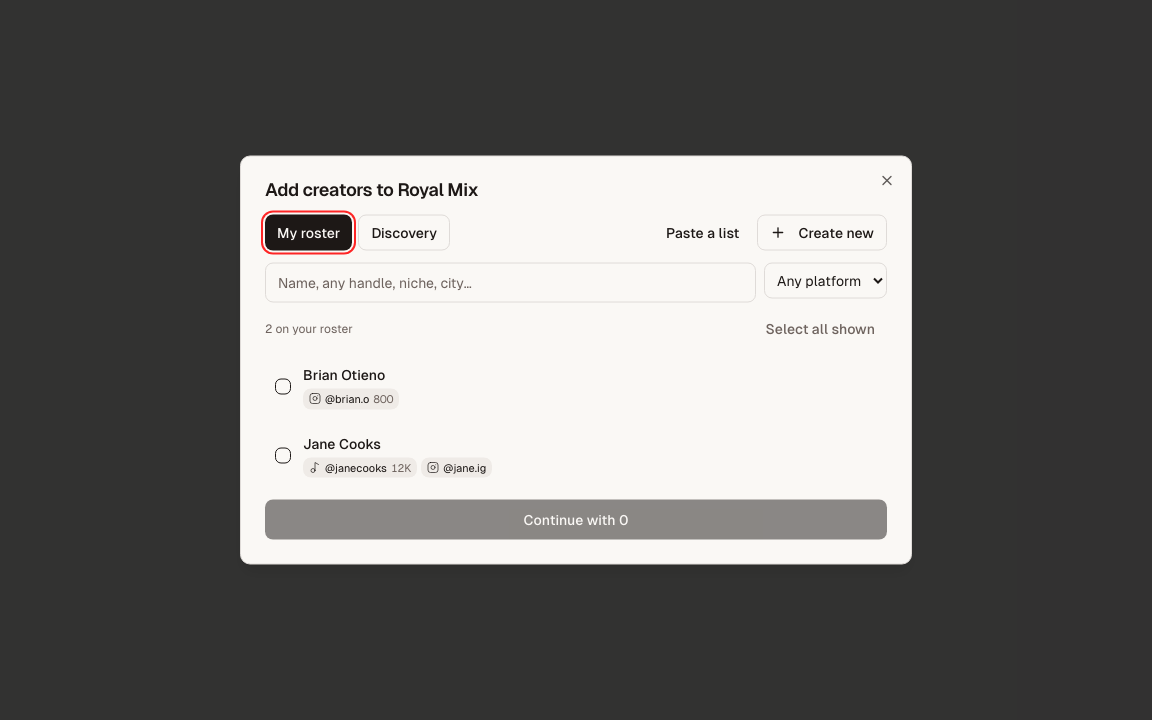
Test case: adding from Discovery › finds people from Discovery while on a campaign
Click the button "Discovery".
click(404, 232)  # box left=358, top=214, right=450, bottom=250
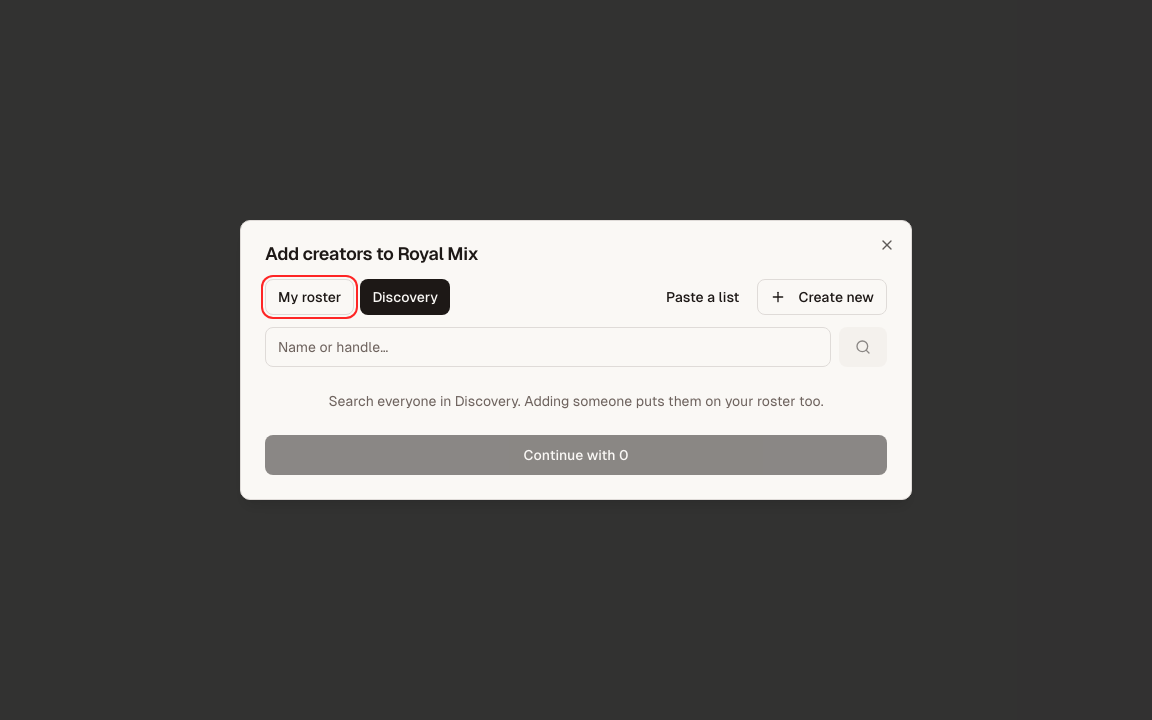
Type "new person" into the field named "search discovery".
click(548, 347); type("new person")  # box left=265, top=327, right=831, bottom=367
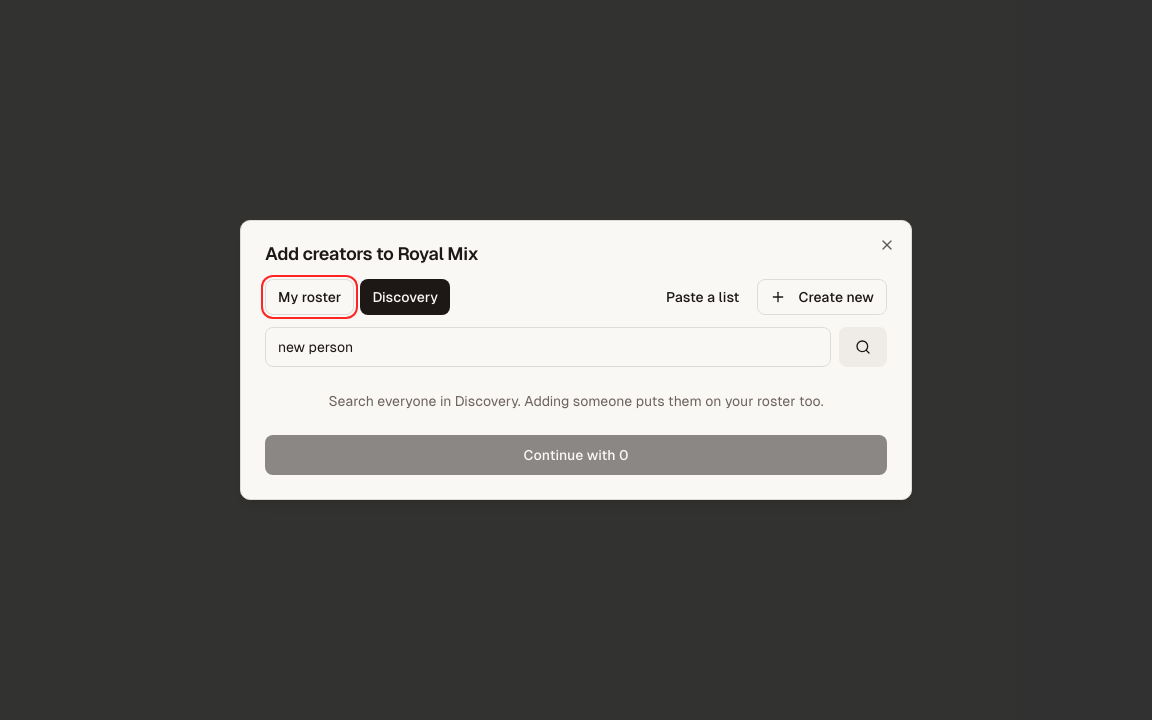
Submit the form named "search discovery", box left=265, top=327, right=887, bottom=367
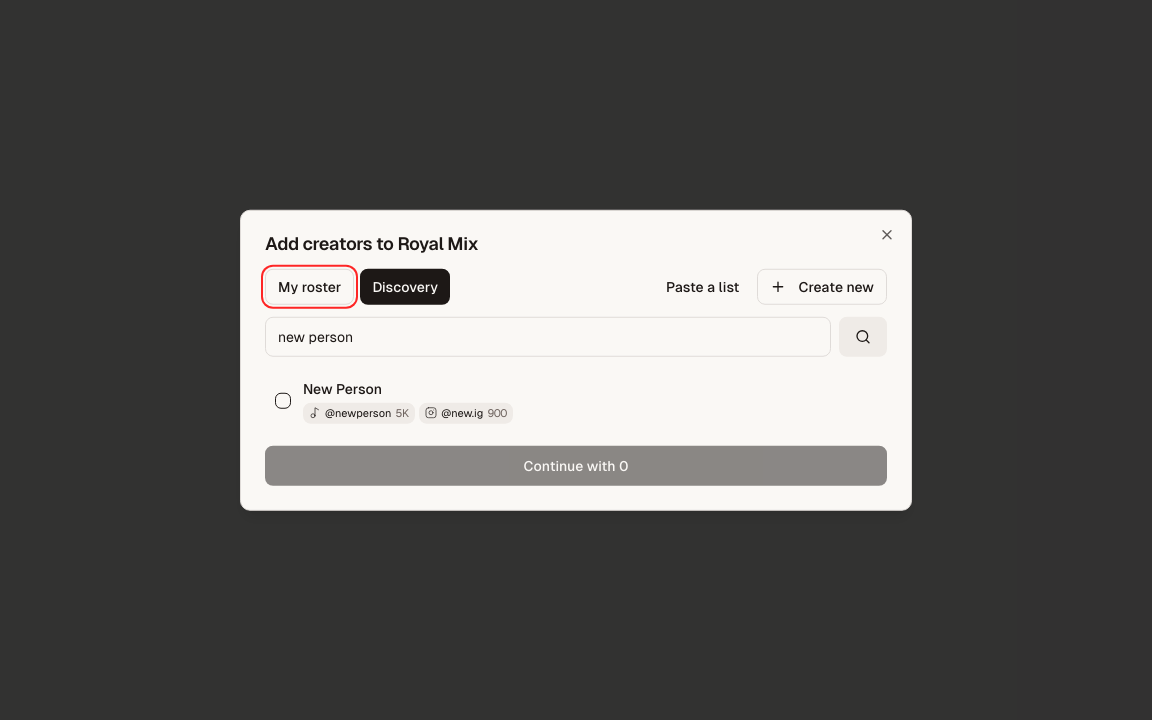
Click the checkbox named "new person".
click(283, 401)  # box left=275, top=393, right=291, bottom=409
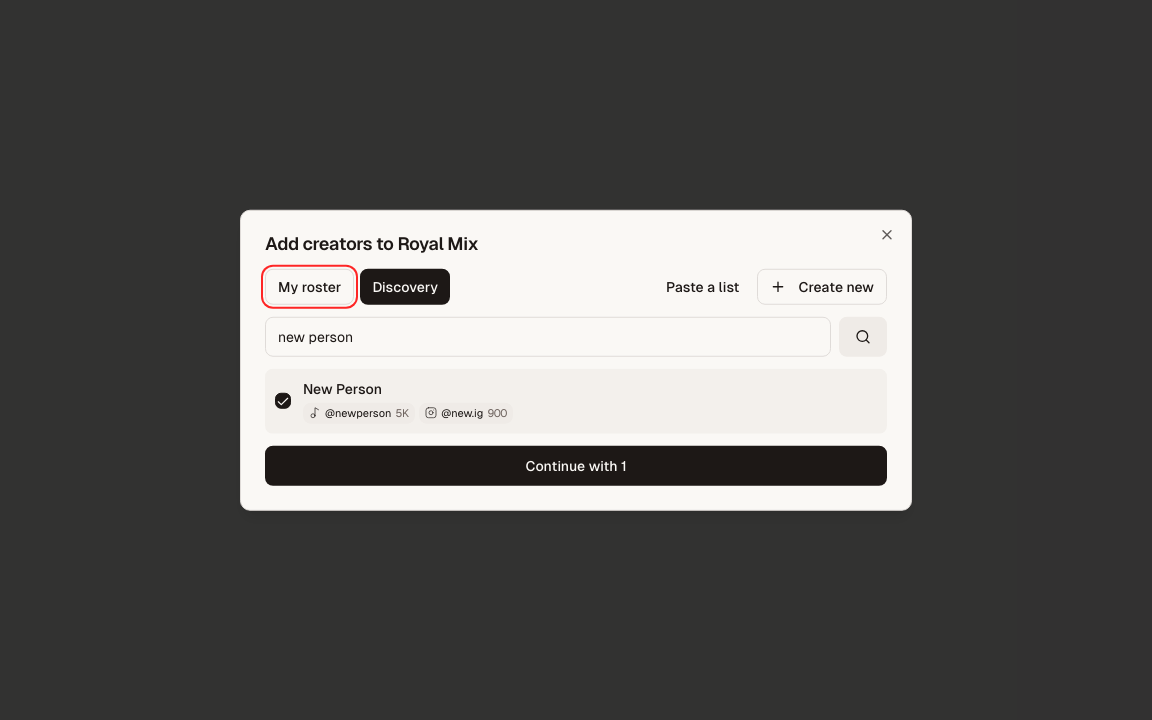
Click the button "Continue with 1".
click(576, 465)  # box left=265, top=445, right=887, bottom=485
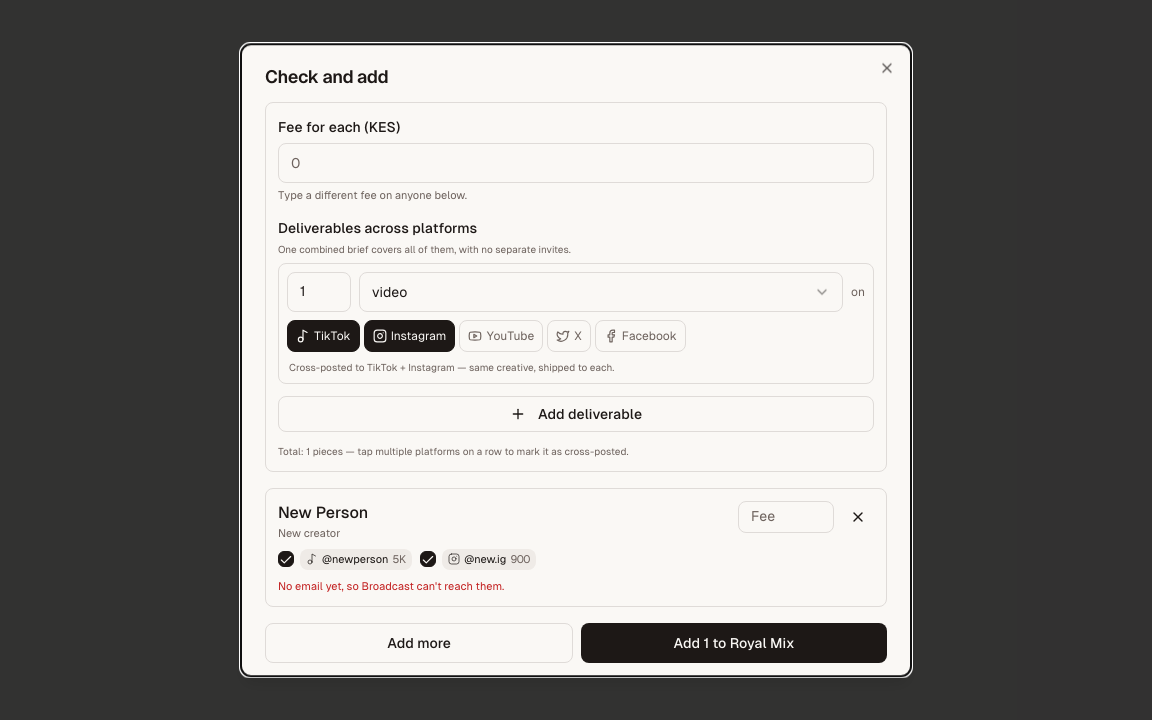
expect the text "New creator" is shown: met, box left=278, top=527, right=340, bottom=539
